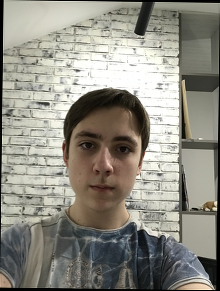without_mask: (67, 127, 142, 212)
